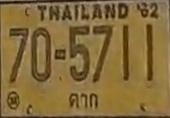0: (30, 26, 51, 81)
1: (121, 24, 130, 82), (145, 23, 154, 81)
5: (68, 24, 89, 80)
7: (92, 24, 112, 80), (8, 27, 28, 82)
TAK: (65, 90, 102, 110)
